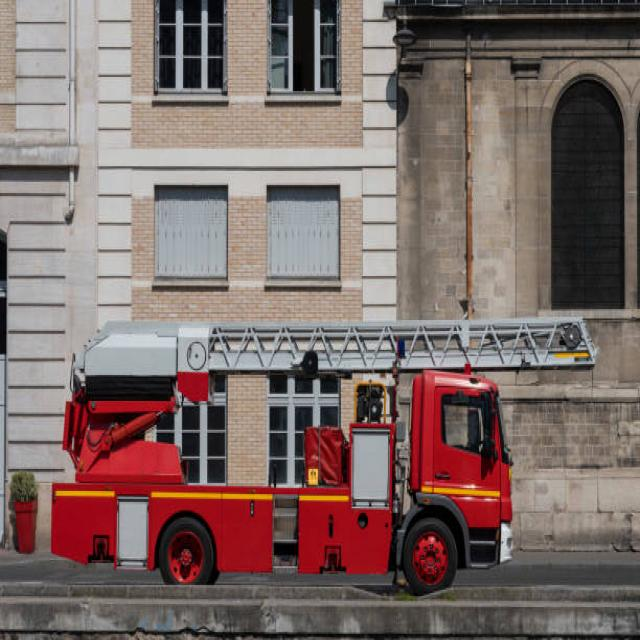emergency: (51, 321, 594, 593)
